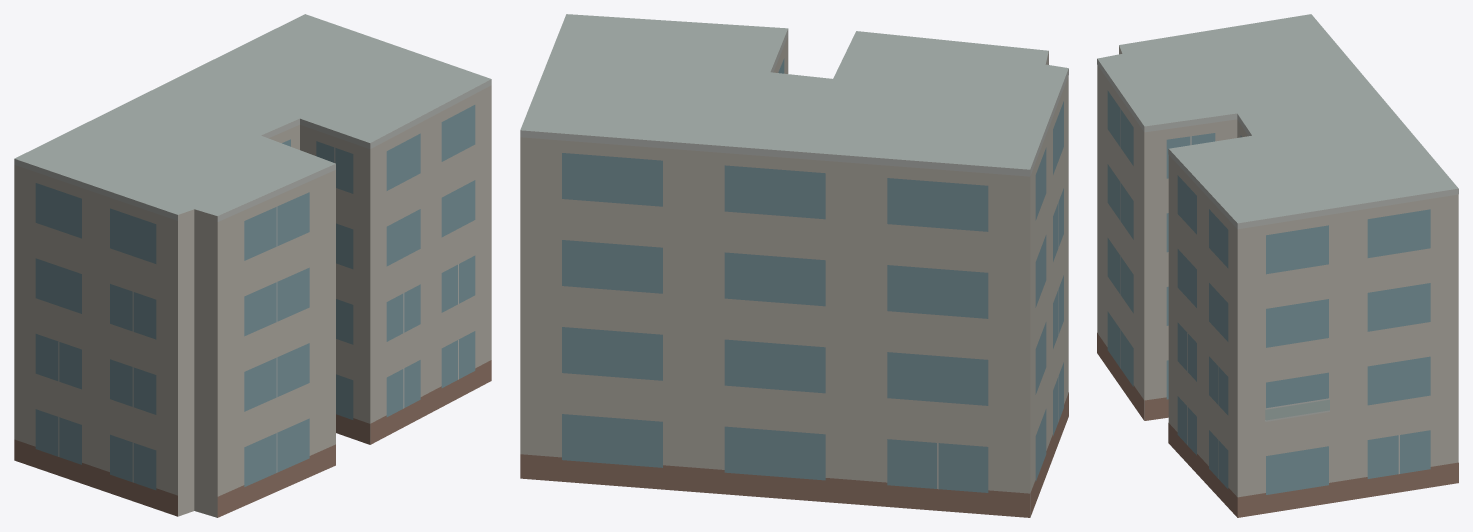
Rendered from survey-upis-32748977.glb.
The picture shows the model from 3 angles, left to right: view 1: azimuth 30°, elevation 25°; view 2: azimuth 150°, elevation 25°; view 3: azimuth 270°, elevation 25°; orthographic projection. The views are drawn at different scales.
Parts seen in each view (by area): view 1: survey-upis-32748977.tmp; view 2: survey-upis-32748977.tmp; view 3: survey-upis-32748977.tmp.
Part boxes in pixels (left/top/right/bottom): survey-upis-32748977.tmp: left=14, top=14, right=491, bottom=517; survey-upis-32748977.tmp: left=520, top=14, right=1068, bottom=517; survey-upis-32748977.tmp: left=1097, top=14, right=1458, bottom=517.
Bounding box in the file's own units: 18.62 × 12.2 × 13.59.
